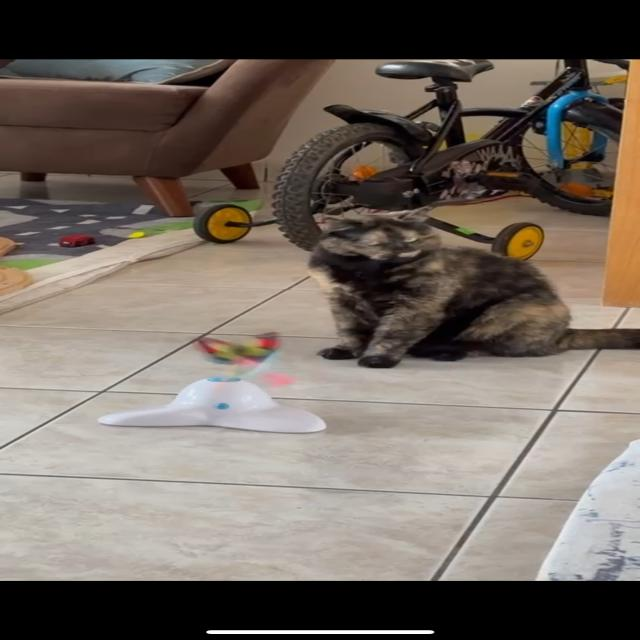authorized: (306, 205, 638, 369)
